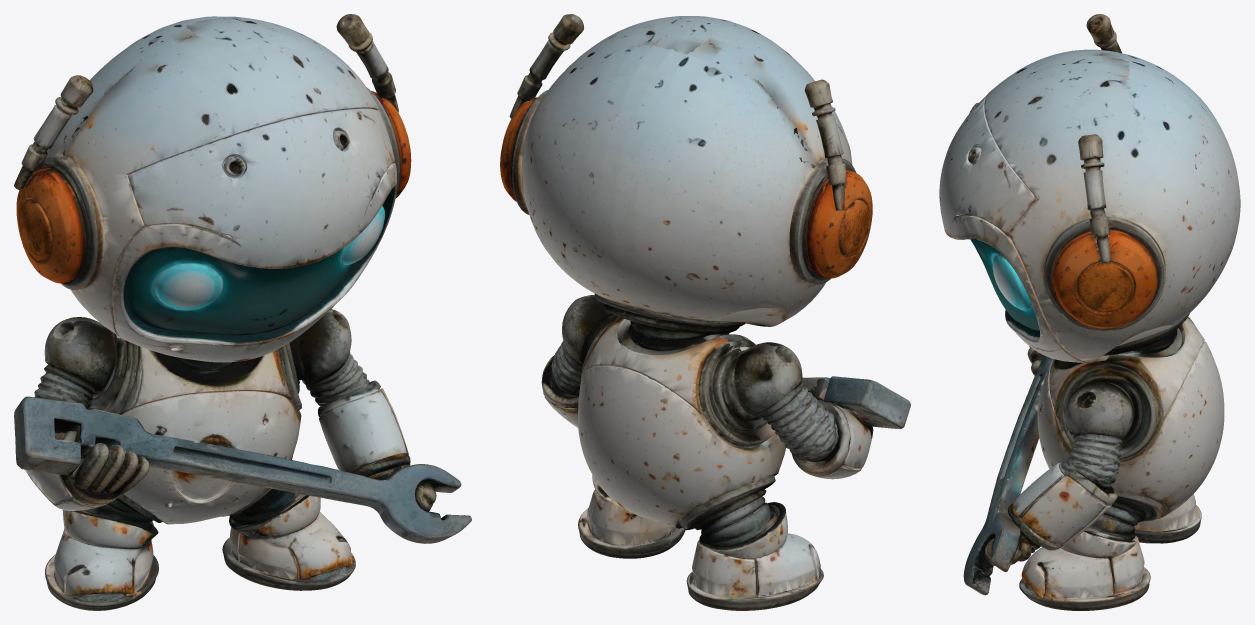
The model's file is astronot.glb.
3 views of the same model, side by side, from view 1: azimuth 30°, elevation 25°; view 2: azimuth 150°, elevation 25°; view 3: azimuth 270°, elevation 25° (orthographic). The views are drawn at different scales.
Visible parts, largest first — view 1: texture_pbr_v128; view 2: texture_pbr_v128; view 3: texture_pbr_v128.
Part boxes in pixels (x1,y1,x2,y2): texture_pbr_v128: [14, 14, 471, 610]; texture_pbr_v128: [500, 14, 910, 610]; texture_pbr_v128: [939, 14, 1240, 610].
Size of the model in its own units: 25679 by 33696 by 18438.
1 material, 1 textured.
